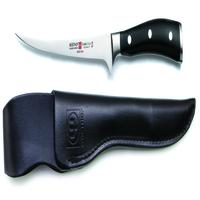knife: (10, 18, 188, 71)
